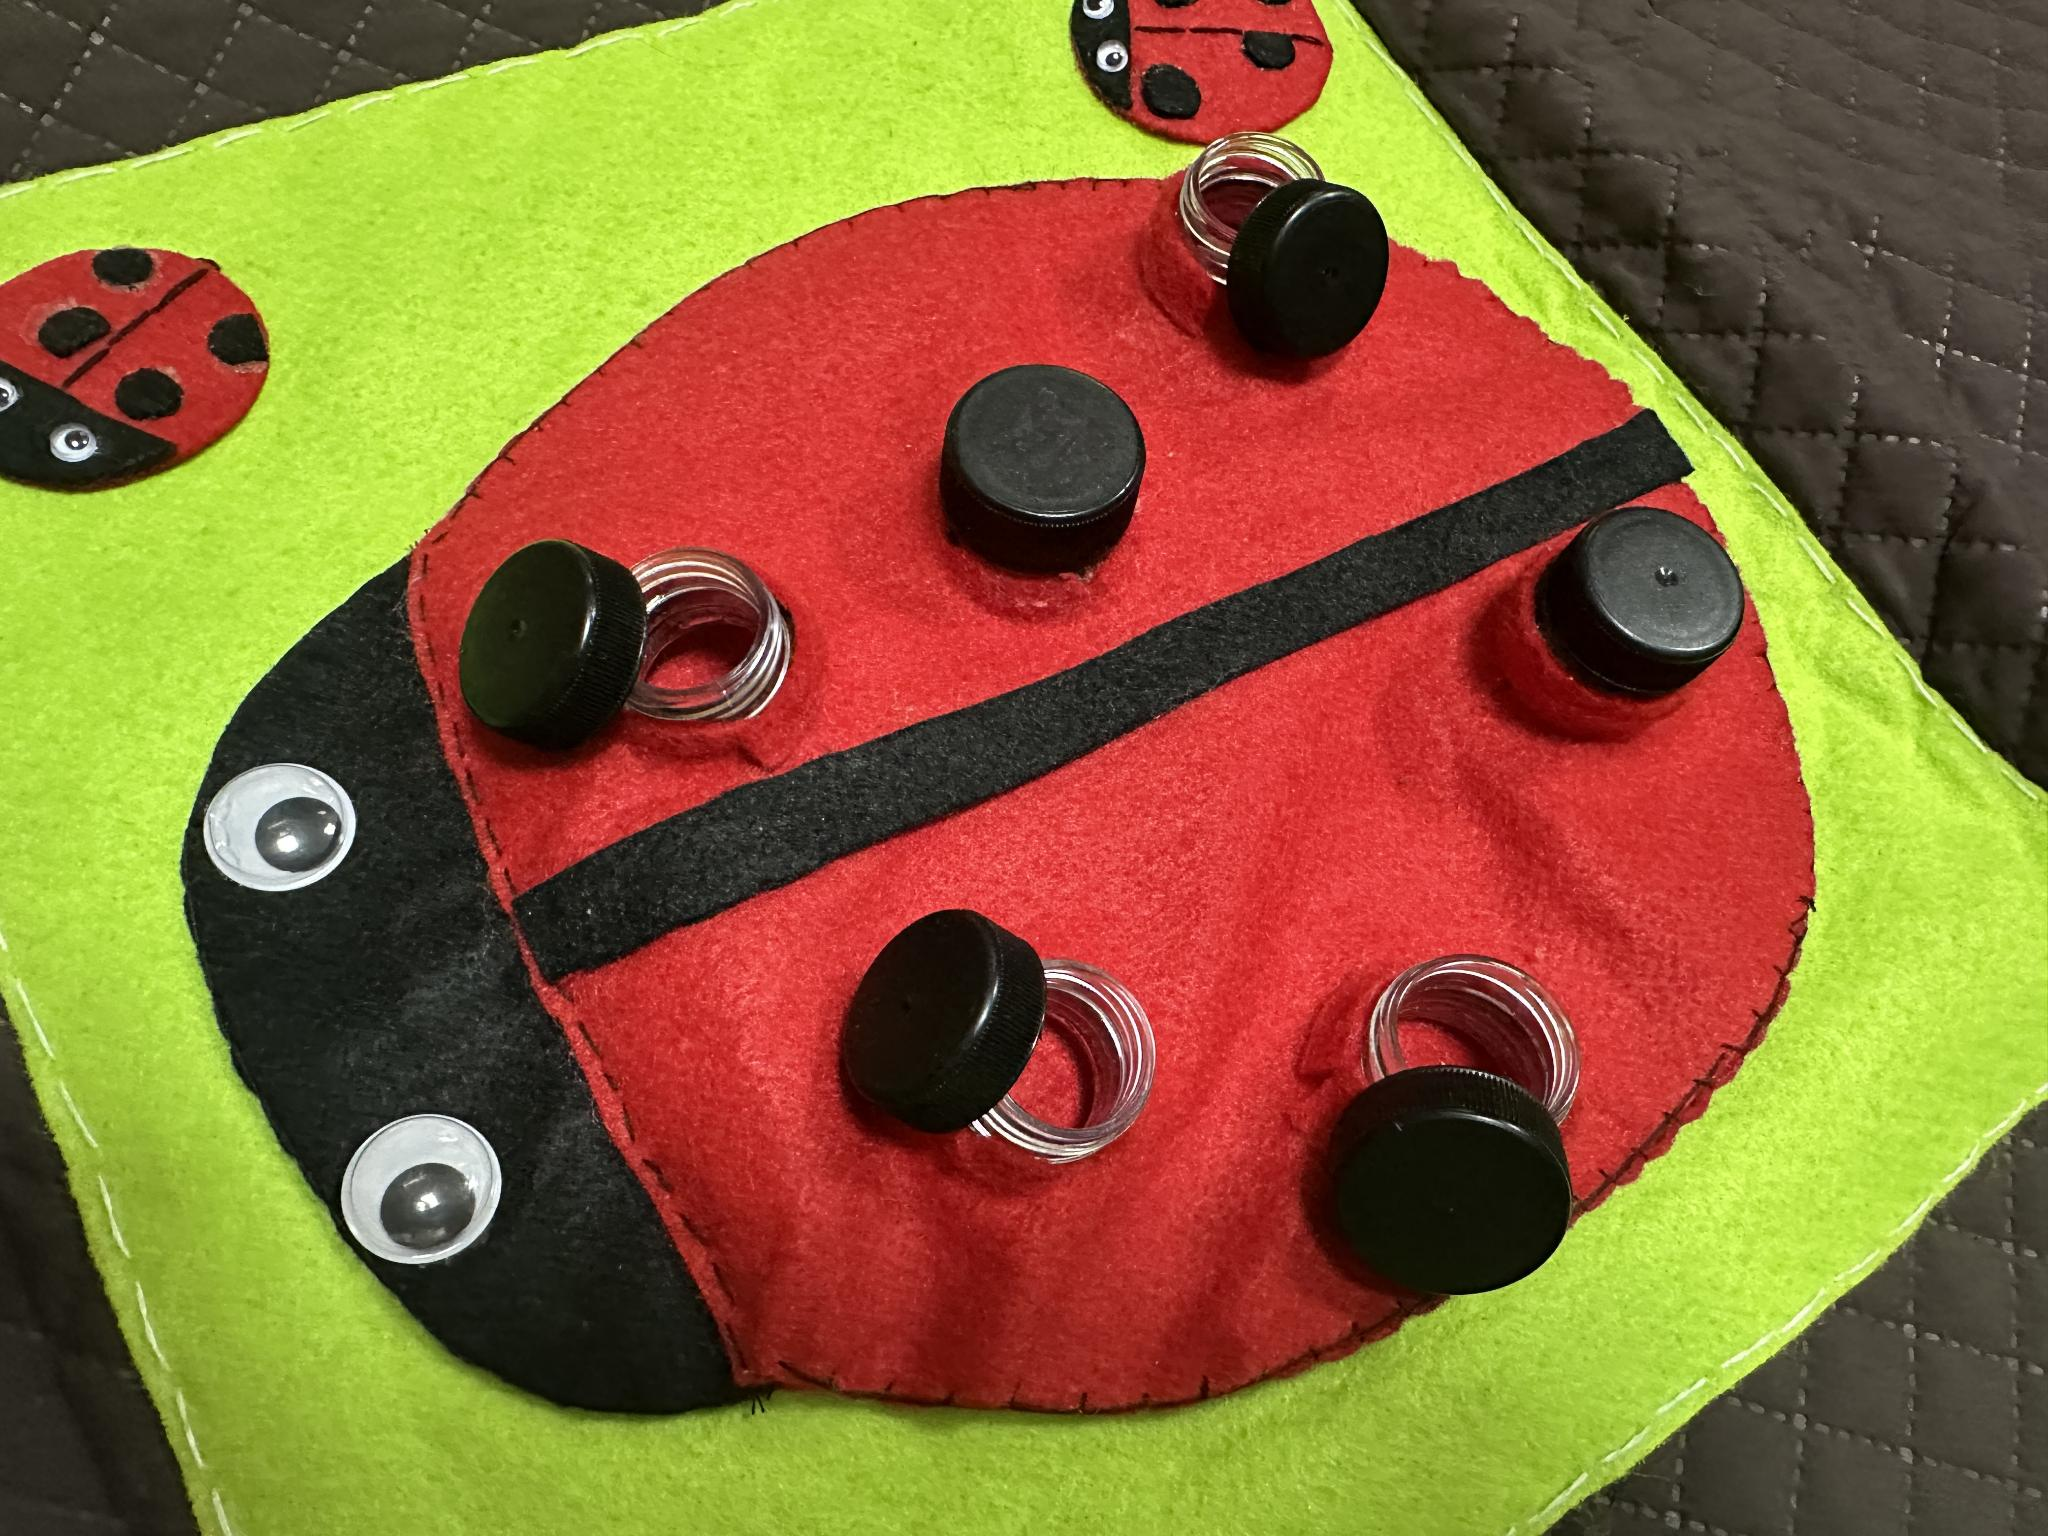cap_ng: (1298, 925, 1600, 1309), (826, 895, 1164, 1179), (440, 539, 822, 757), (1166, 123, 1406, 390)
cap_ok: (1492, 481, 1759, 747), (922, 344, 1164, 603)
